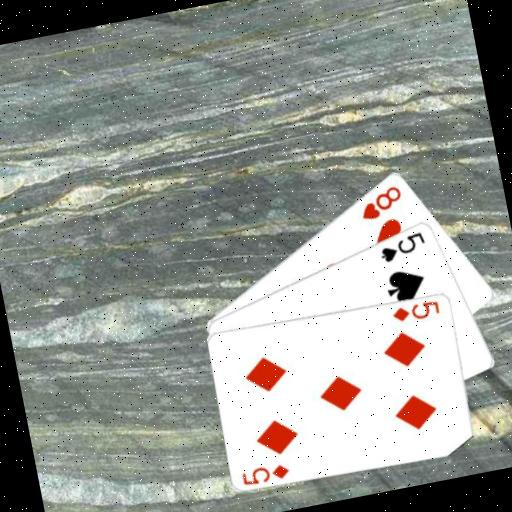5D: (238, 459, 293, 489), (389, 296, 442, 326)
5S: (375, 227, 430, 265)
8H: (354, 181, 408, 223)
